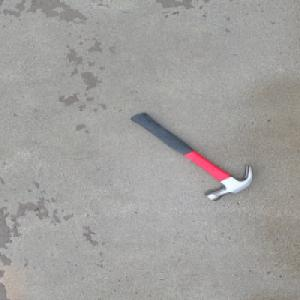Hammer: (128, 111, 253, 202)
